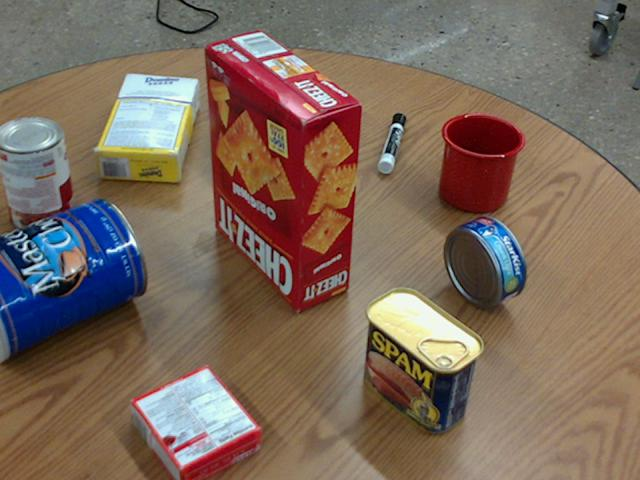cracker_box: (204, 30, 361, 310)
gelatin_box: (130, 364, 261, 479)
large_marker: (378, 113, 405, 172)
master_chef_can: (0, 196, 146, 362)
mug: (437, 112, 523, 211)
mustard_bottle: (212, 67, 337, 162)
potted_meat_can: (363, 287, 484, 433)
sugar_box: (94, 72, 198, 181)
tomato_soup_can: (0, 117, 75, 234)
tuna_fish_can: (444, 215, 525, 307)
